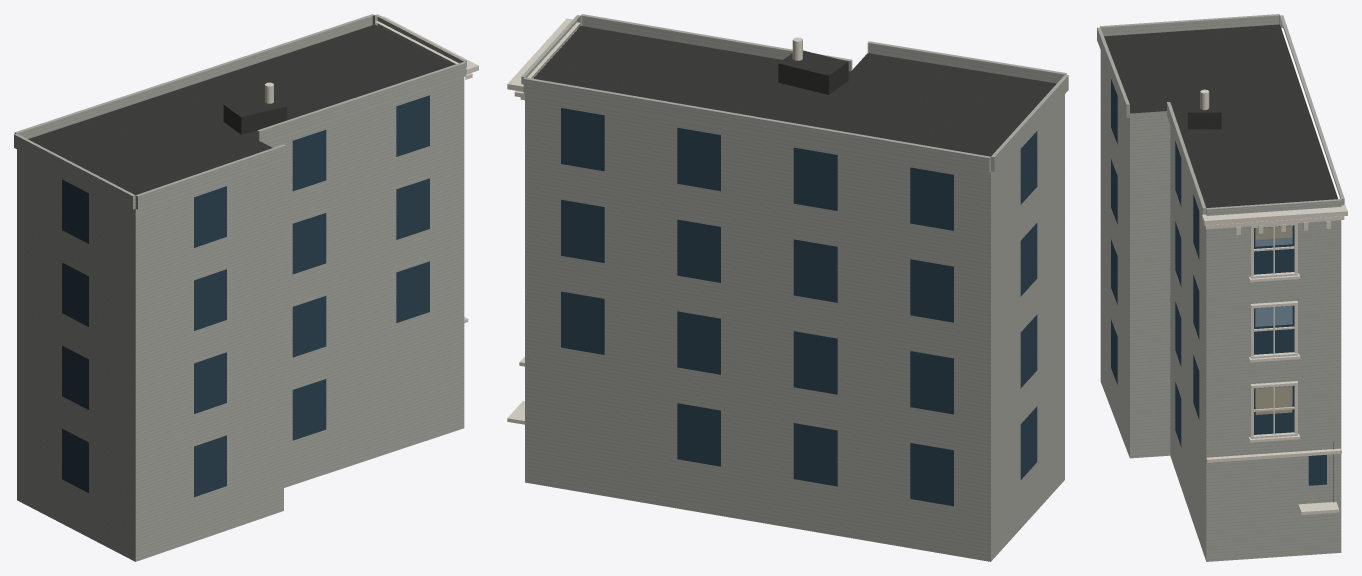
3 renders of one model, left to right at view 1: azimuth 30°, elevation 25°; view 2: azimuth 150°, elevation 25°; view 3: azimuth 270°, elevation 25°, orthographic. The views are drawn at different scales.
Visible parts, largest first — view 1: Footprint 0 / surface 2, Footprint 0 / surface 1, Inset glazing, Facade bay volumes, Inferred rooftop service enclosure / surface 5, Inferred rooftop service enclosure / surface 3, Cornices and window frames; view 2: Footprint 0 / surface 2, Inset glazing, Footprint 0 / surface 1, Facade bay volumes, Cornices and window frames, Inferred rooftop service enclosure / surface 6, Inferred rooftop service enclosure / surface 3; view 3: Footprint 0 / surface 2, Footprint 0 / surface 1, Inset glazing, Cornices and window frames, Facade bay volumes, Interior blind variation, Sky reflection panels, Inferred rooftop service enclosure / surface 1, Inferred rooftop service enclosure / surface 3.
Boxes of the visible parts, box(x1,y1,x2,y2) form: Footprint 0 / surface 2: box(17, 77, 464, 561); Footprint 0 / surface 1: box(28, 24, 452, 195); Inset glazing: box(62, 95, 429, 497); Facade bay volumes: box(14, 14, 466, 209); Inferred rooftop service enclosure / surface 5: box(241, 106, 287, 134); Inferred rooftop service enclosure / surface 3: box(224, 94, 286, 117); Cornices and window frames: box(375, 16, 478, 323); Footprint 0 / surface 2: box(525, 94, 1064, 561); Inset glazing: box(561, 108, 1037, 506); Footprint 0 / surface 1: box(533, 26, 1056, 156); Facade bay volumes: box(521, 14, 1068, 172); Cornices and window frames: box(507, 18, 580, 424); Inferred rooftop service enclosure / surface 6: box(778, 63, 828, 94); Inferred rooftop service enclosure / surface 3: box(778, 50, 847, 75); Footprint 0 / surface 2: box(1100, 50, 1341, 561); Footprint 0 / surface 1: box(1104, 24, 1337, 207); Inset glazing: box(1111, 79, 1326, 485); Cornices and window frames: box(1202, 205, 1347, 515); Facade bay volumes: box(1097, 14, 1344, 217); Interior blind variation: box(1255, 226, 1292, 414); Sky reflection panels: box(1255, 225, 1292, 406); Inferred rooftop service enclosure / surface 1: box(1187, 112, 1221, 129); Inferred rooftop service enclosure / surface 3: box(1187, 91, 1221, 112).
Bounding box in the file's own units: 16.69 × 14.68 × 8.81.
